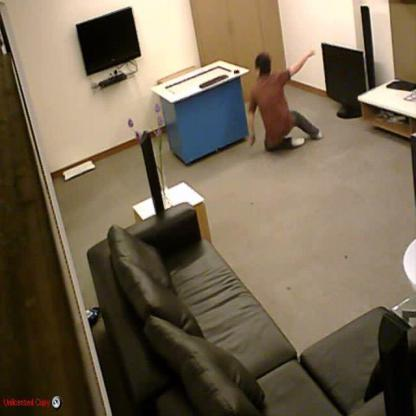Person: (247, 47, 324, 150)
